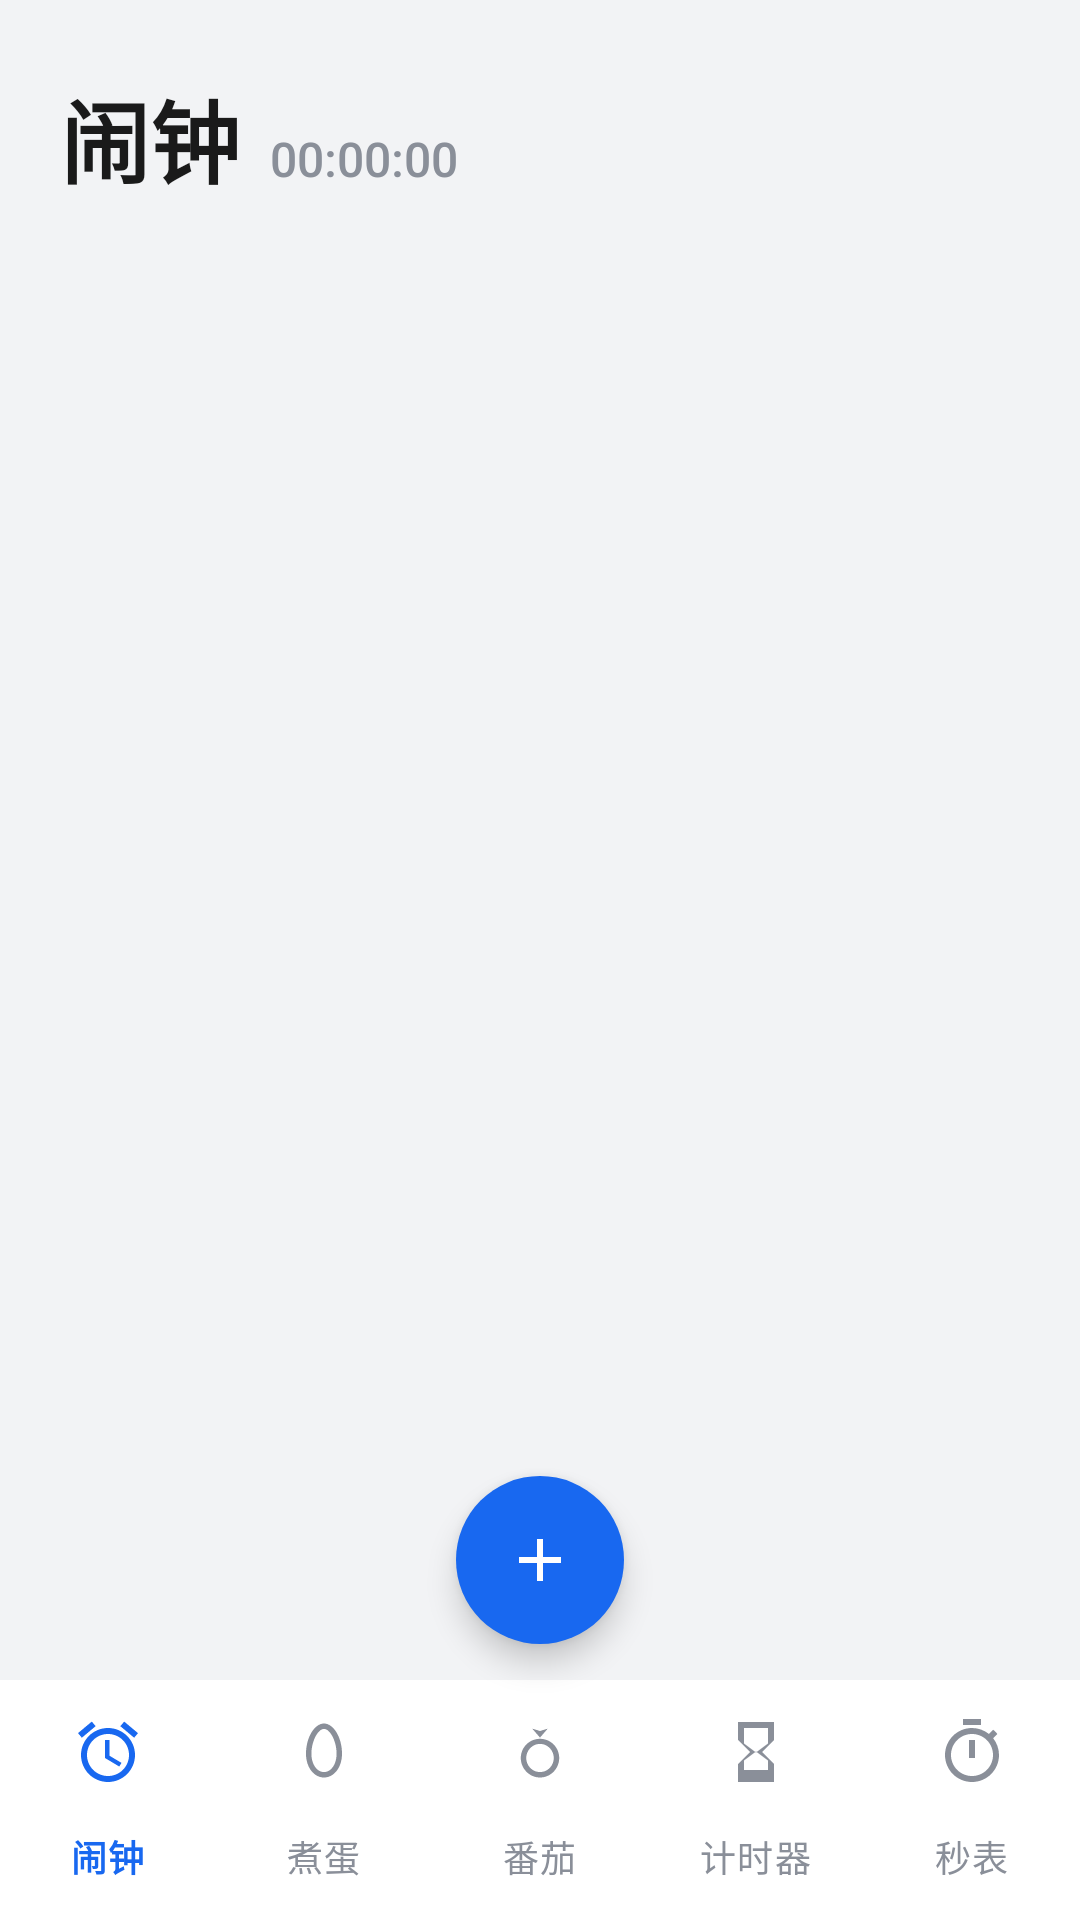

Point at icon controls on the screen. Image size 1080x1920, points as point (x, y).
新建闹钟: point (540, 1560)
